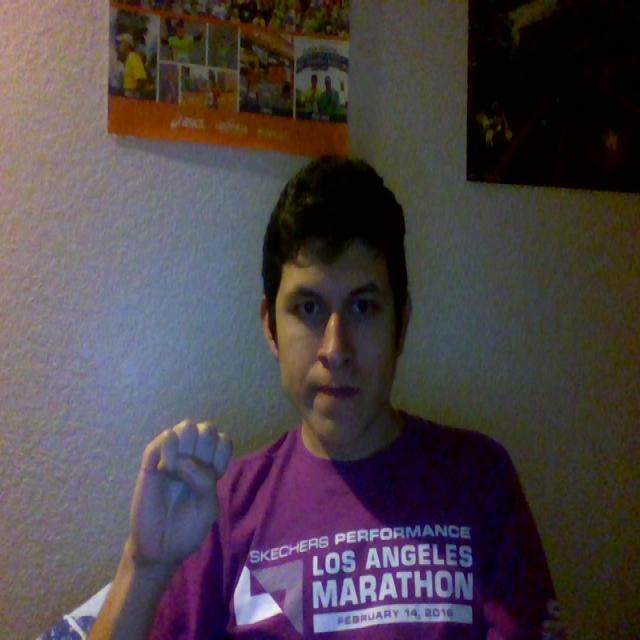S: (115, 398, 242, 591)
